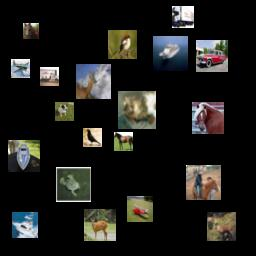airplane: (127, 196, 153, 222), (11, 59, 30, 78)
automobile: (196, 40, 228, 72)
bird: (108, 30, 137, 59), (83, 128, 102, 147)
cat: (118, 91, 156, 129)
deer: (76, 64, 111, 99), (84, 209, 116, 241), (207, 212, 236, 241)
dog: (55, 102, 74, 121)
frog: (56, 167, 91, 202)
ship: (153, 36, 188, 71), (8, 140, 40, 172), (12, 212, 38, 238)
truck: (172, 6, 194, 28), (40, 67, 59, 86)
